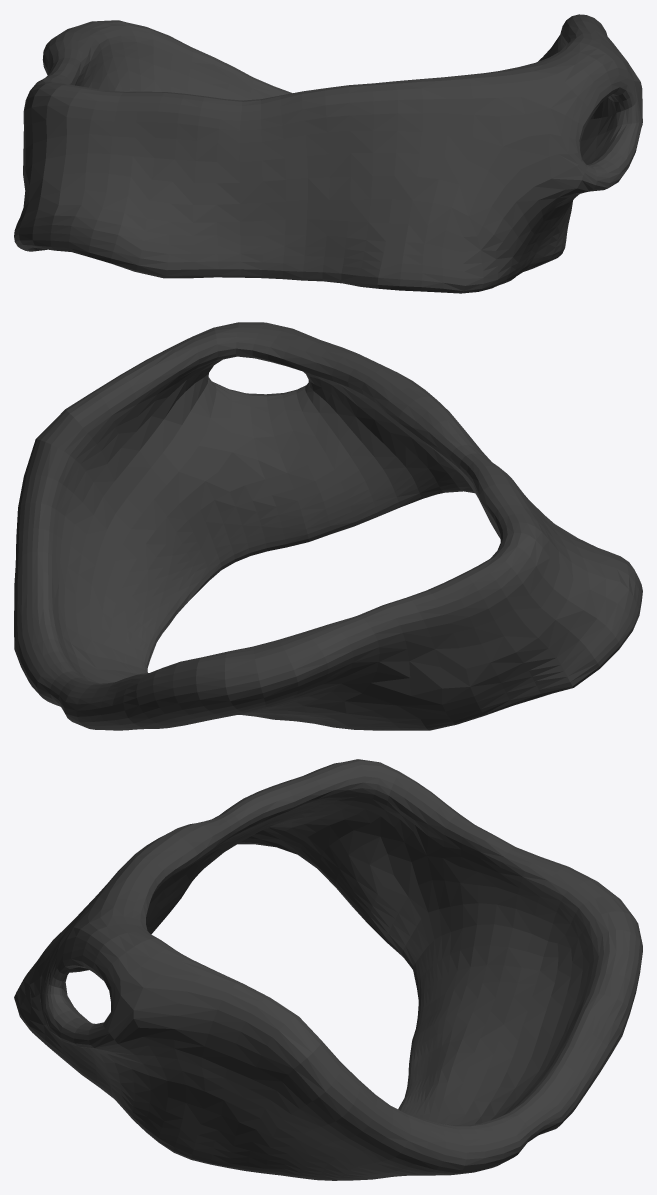
File: Internal_auditory_meatus_L.glb
3 views of the same model, one above another, from view 1: azimuth 30°, elevation 25°; view 2: azimuth 150°, elevation 25°; view 3: azimuth 270°, elevation 25° (orthographic).
Visible parts, largest first — view 1: Internal_auditory_meatus_L; view 2: Internal_auditory_meatus_L; view 3: Internal_auditory_meatus_L.
Boxes of the visible parts, x1=… form: Internal_auditory_meatus_L: x1=14, y1=14, x2=642, y2=293; Internal_auditory_meatus_L: x1=14, y1=322, x2=642, y2=730; Internal_auditory_meatus_L: x1=14, y1=759, x2=642, y2=1180.
Bounding box in the file's own units: 0.9492 × 0.4029 × 0.8944.
Materials: 1 (1 with a texture image).
